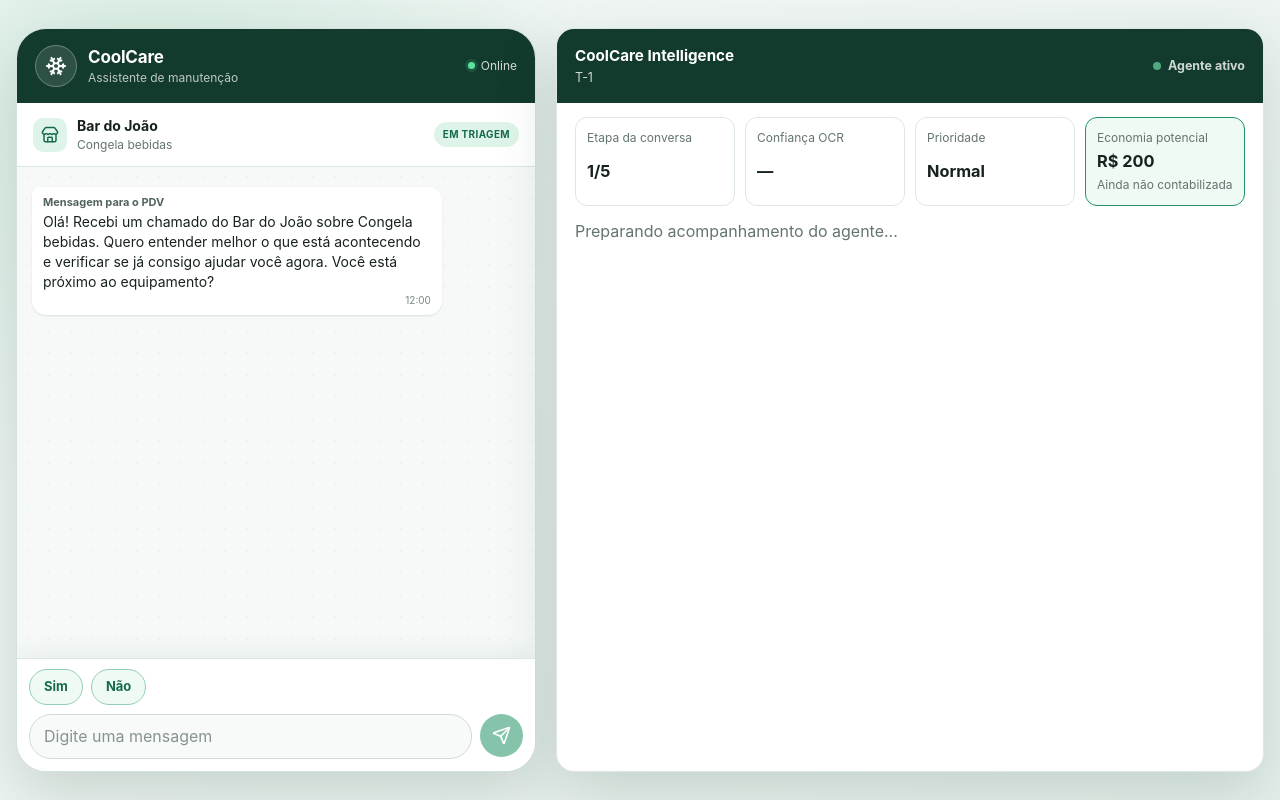
Test: shows controlled Portuguese errors and restores the controls
The image size is (1280, 800).
expect the text "quero entender melhor" is shown: met, box x1=43 y1=213 x2=425 y2=290
Click the button "Sim" at point(56, 687), box x1=29 y1=669 x2=83 y2=705
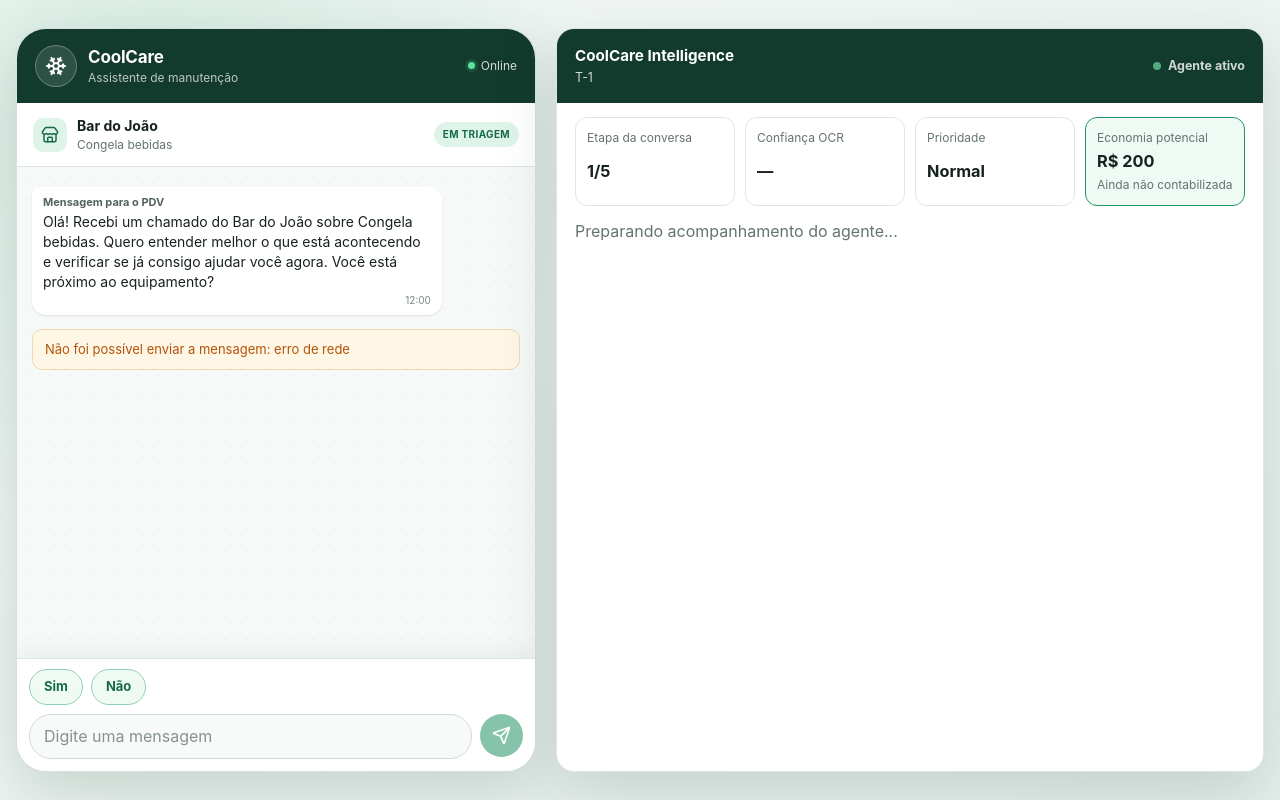
expect the message reads "Não foi possível enviar a mensagem: erro de rede": met, box x1=45 y1=341 x2=350 y2=357
